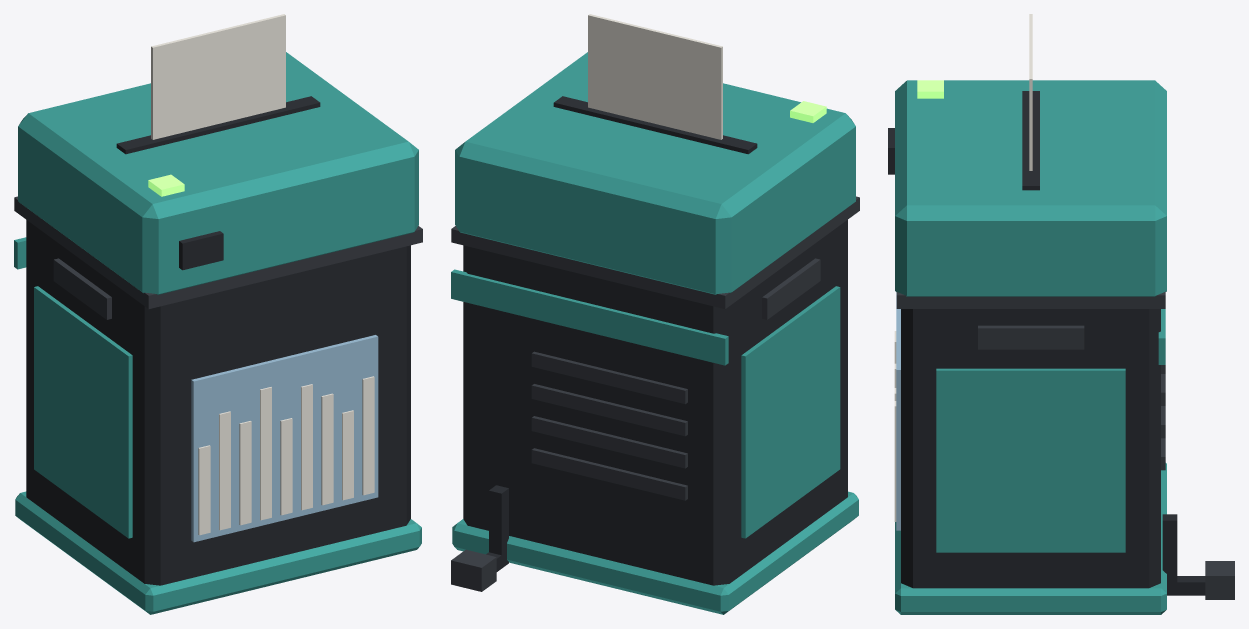
Rendered from shredder_core.glb.
The picture shows the model from 3 angles, left to right: view 1: azimuth 30°, elevation 25°; view 2: azimuth 150°, elevation 25°; view 3: azimuth 270°, elevation 25°; orthographic projection.
Parts seen in each view (by area): view 1: shredder_core_mesh; view 2: shredder_core_mesh; view 3: shredder_core_mesh.
Boxes of the visible parts, bbox=[...] form: shredder_core_mesh: bbox=[14, 14, 422, 614]; shredder_core_mesh: bbox=[451, 14, 859, 614]; shredder_core_mesh: bbox=[888, 14, 1234, 614].
Size of the model in its own units: 0.54 by 0.94 by 0.587.
